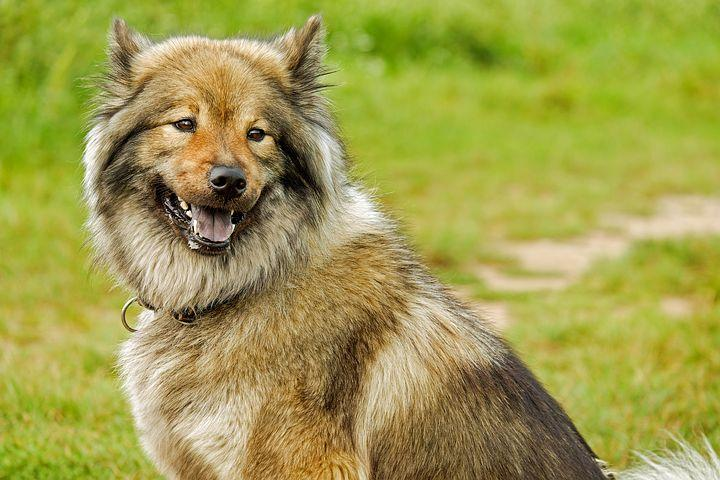Wolf: (80, 8, 720, 480)
